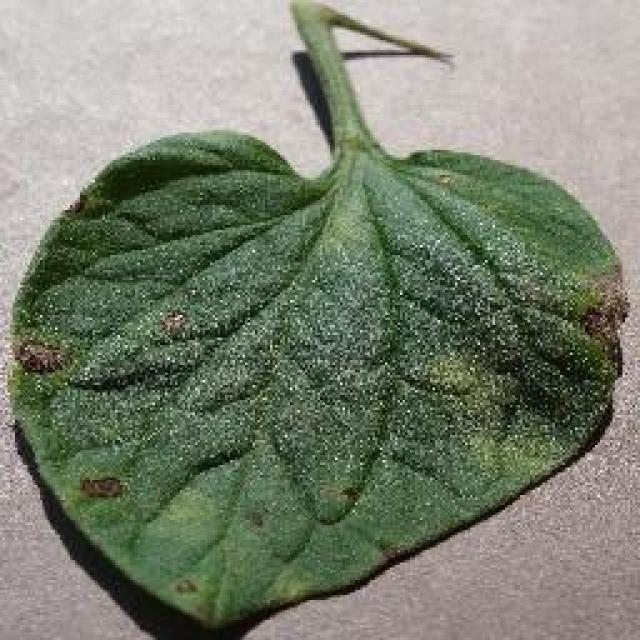Tomato___Early_blight: (9, 3, 626, 628)
